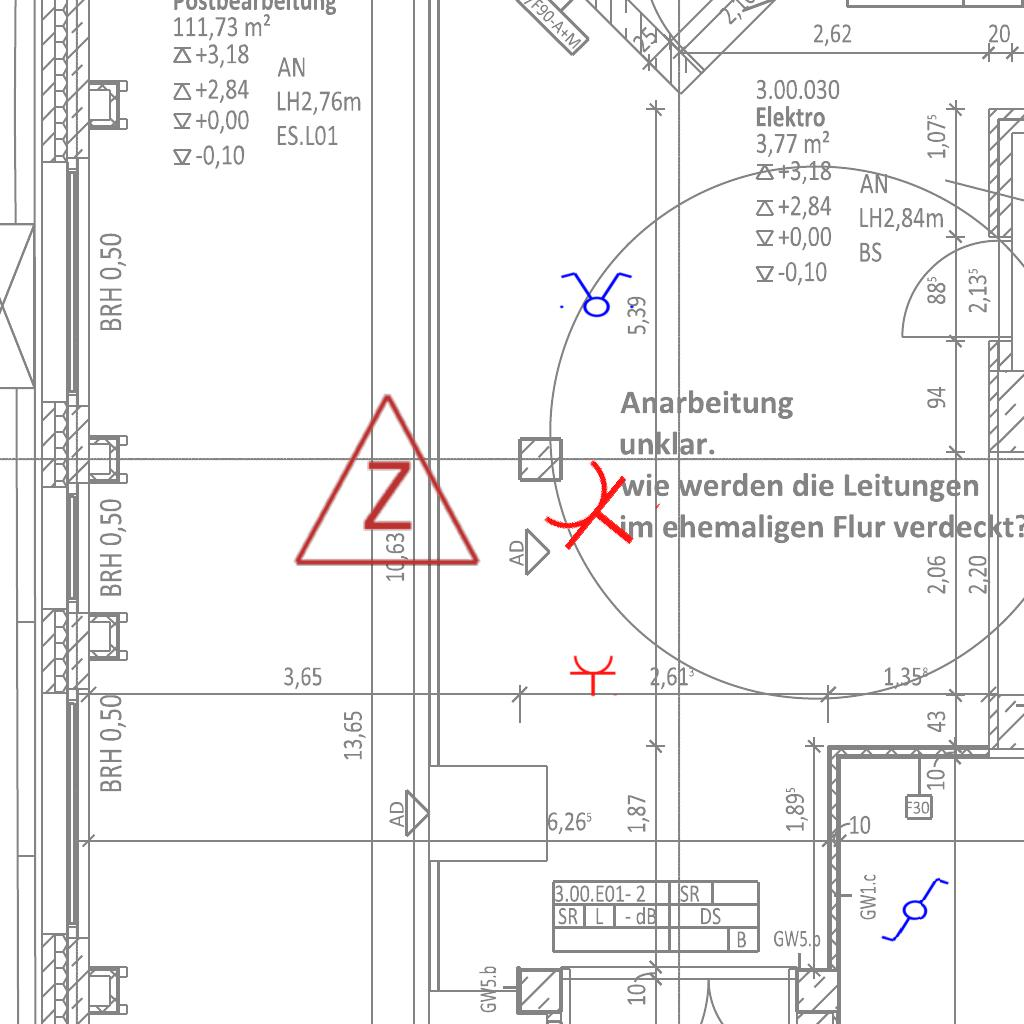Schukosteckdose_einfach: (535, 447, 666, 581), (569, 654, 619, 697)
Serienschalter: (554, 270, 638, 318)
Wechselschalter: (870, 871, 952, 947)
Zimmersignalleuchte: (287, 380, 483, 580)
